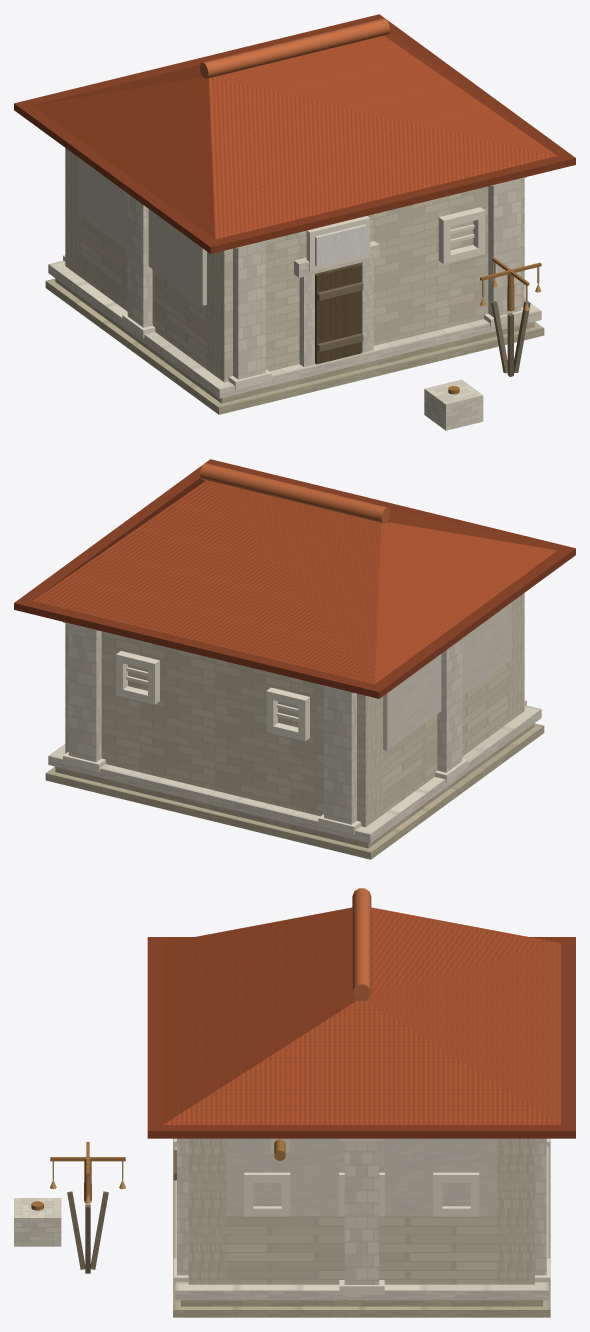
Rendered from pol-8-built.glb.
3 views of the same model, one above another, from view 1: azimuth 30°, elevation 25°; view 2: azimuth 150°, elevation 25°; view 3: azimuth 270°, elevation 25° (orthographic). The views are drawn at different scales.
Size of the model in its own units: 14.6 by 10.33 by 17.85.
Materials: 21 (14 with a texture image).
